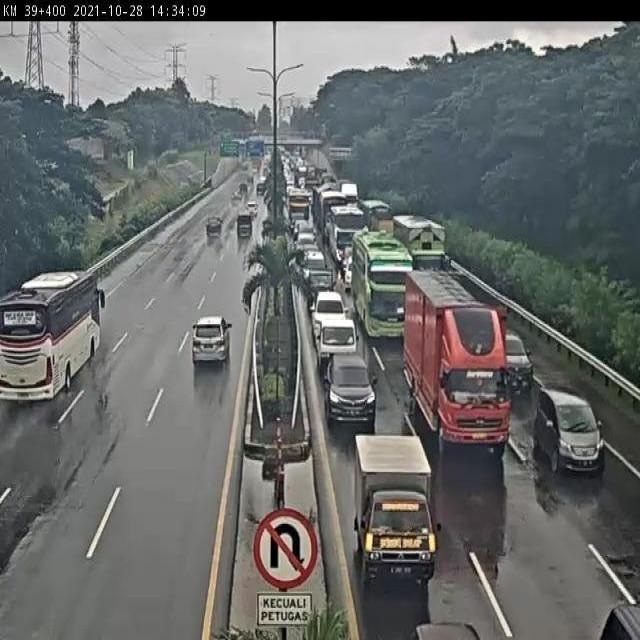bus-l-: (0, 269, 104, 402), (350, 228, 411, 333), (330, 208, 366, 265)
car: (351, 433, 444, 588), (539, 392, 604, 476), (324, 347, 378, 422), (487, 321, 533, 395), (314, 314, 357, 366), (192, 319, 233, 368), (309, 292, 348, 331), (303, 269, 336, 304), (303, 250, 328, 270), (342, 252, 357, 285), (297, 234, 317, 258), (293, 218, 316, 238)
truck-l-: (404, 272, 505, 460), (392, 216, 453, 292)
